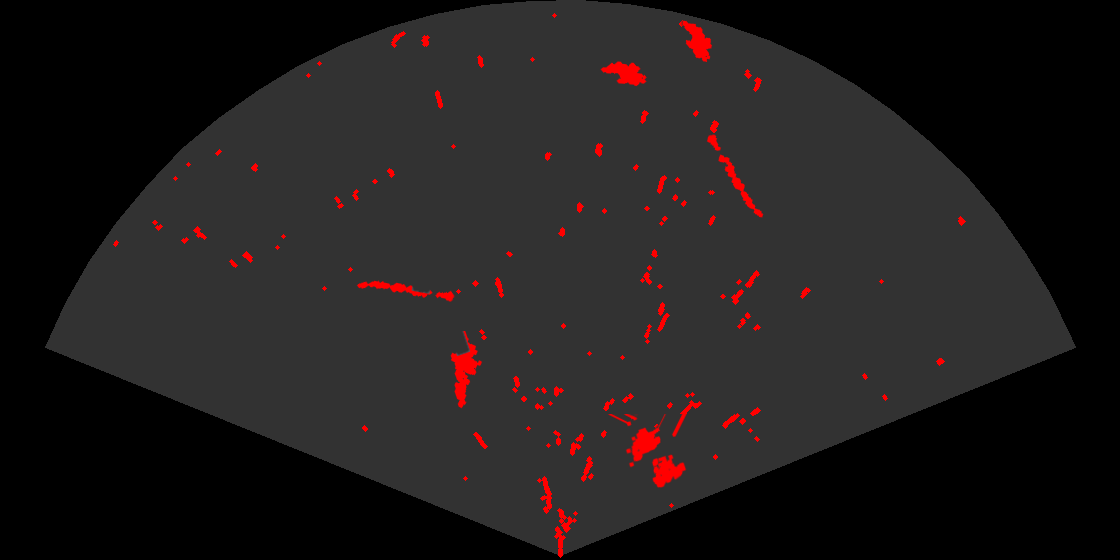AUV: (681, 19, 714, 64), (599, 60, 648, 88)
cage: (607, 414, 688, 489)
chain: (706, 133, 765, 219), (355, 279, 457, 303)
frogman: (449, 331, 484, 410)
